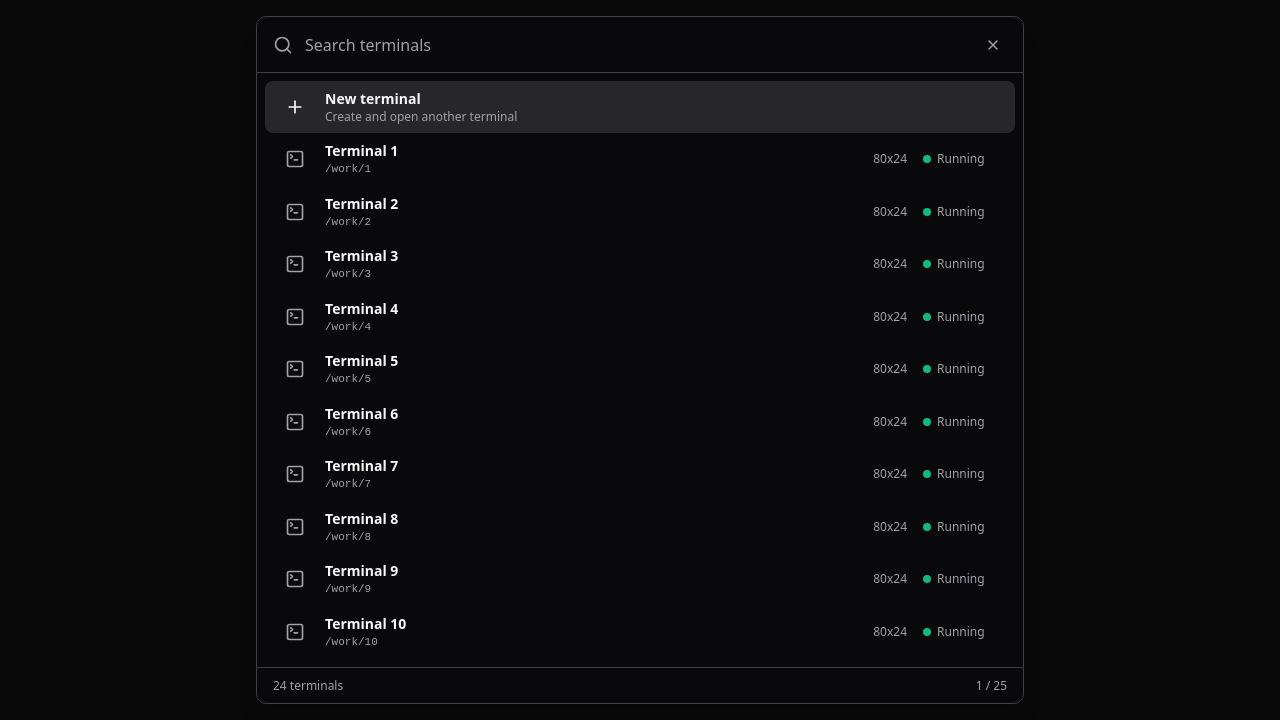
Test: WebTerminalPickerDialog › renders the complete terminal inventory in a tall scrollable list with result feedback
Expected: the text with test id "anytty-web-terminal-picker-results" reads "24 terminals", x1=273 y1=676 x2=343 y2=694
Expected: the text "1 / 25" is shown, x1=976 y1=678 x2=1007 y2=694
Type "Terminal 24" into the dropdown named "Find terminal" at (636, 44), box x1=305 y1=17 x2=967 y2=72
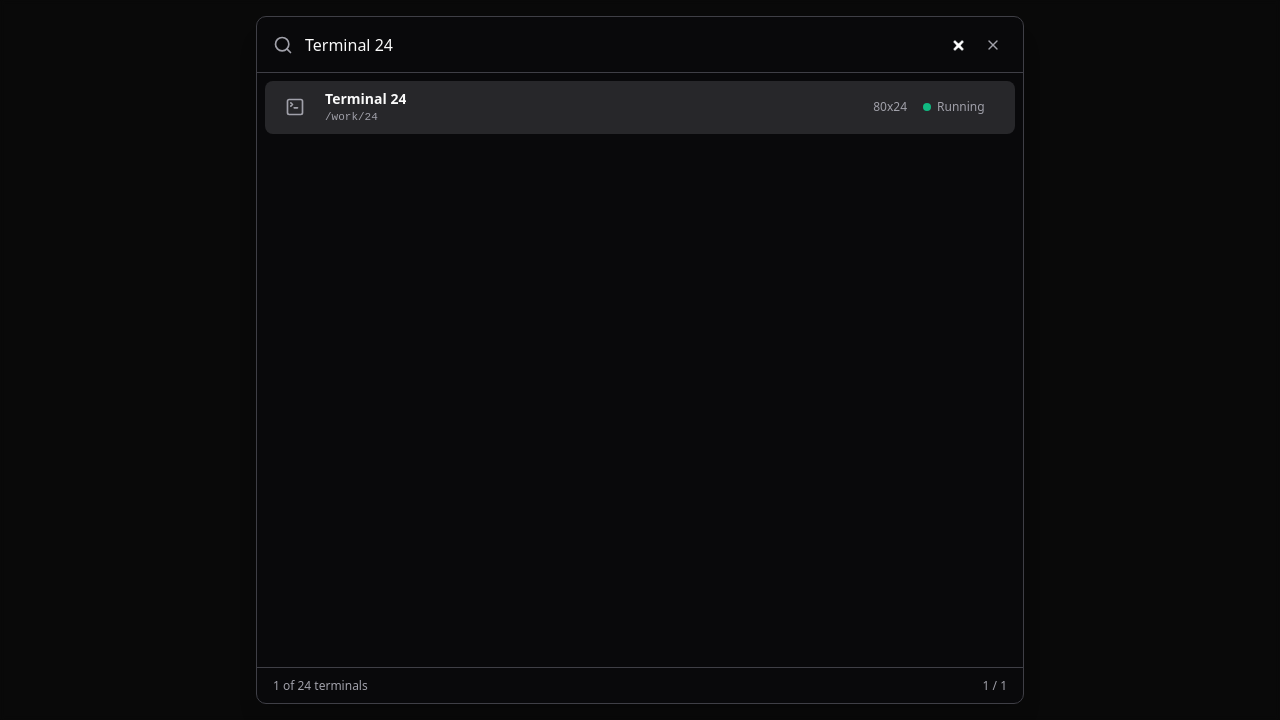
Expected: the number of options is 1, x1=265 y1=81 x2=1015 y2=134
Expected: the text with test id "anytty-web-terminal-picker-results" reads "1 of 24 terminals", x1=273 y1=676 x2=368 y2=694
Expected: the text "1 / 1" is shown, x1=983 y1=678 x2=1007 y2=694
